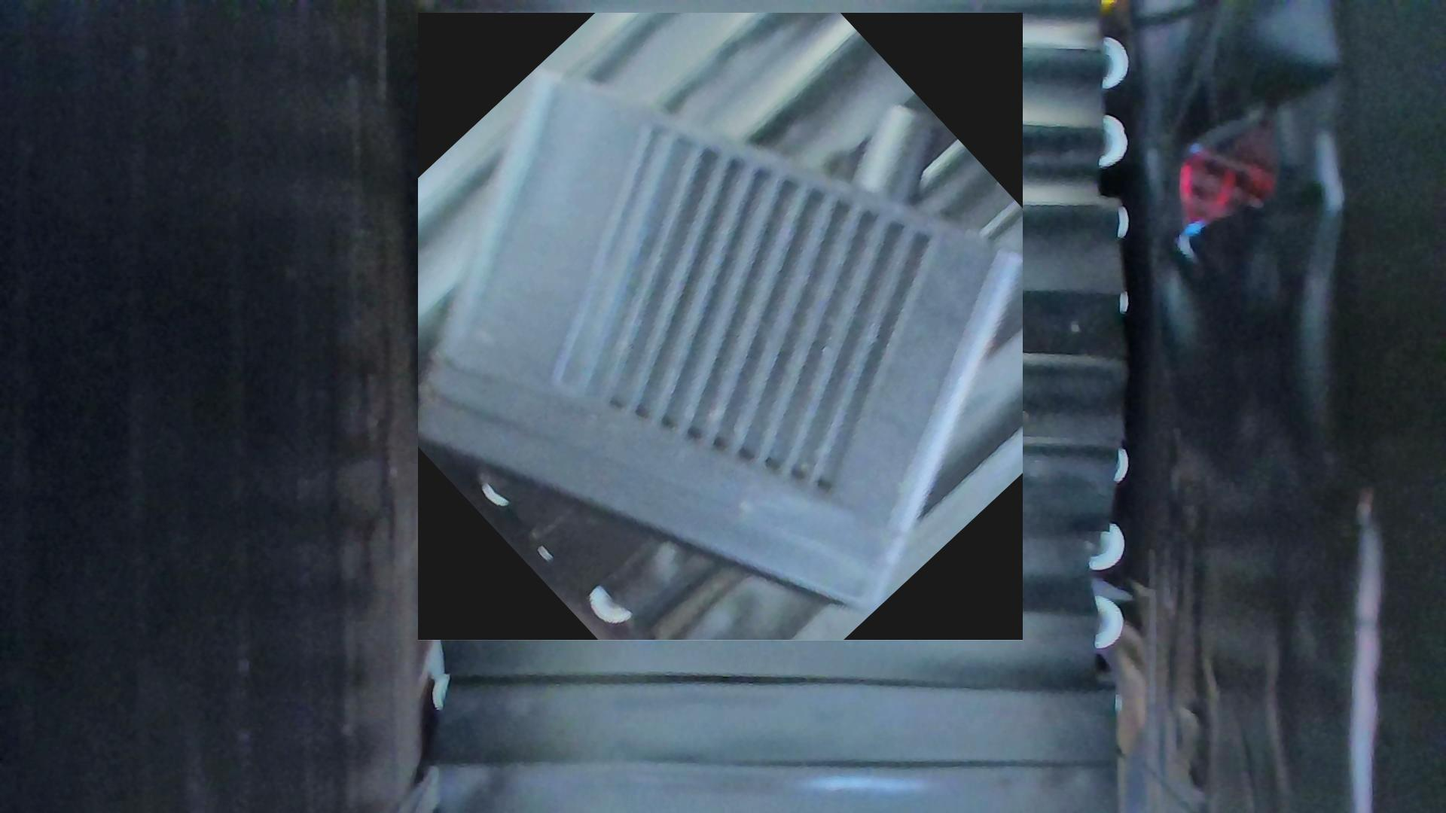motor: (418, 13, 1023, 641)
